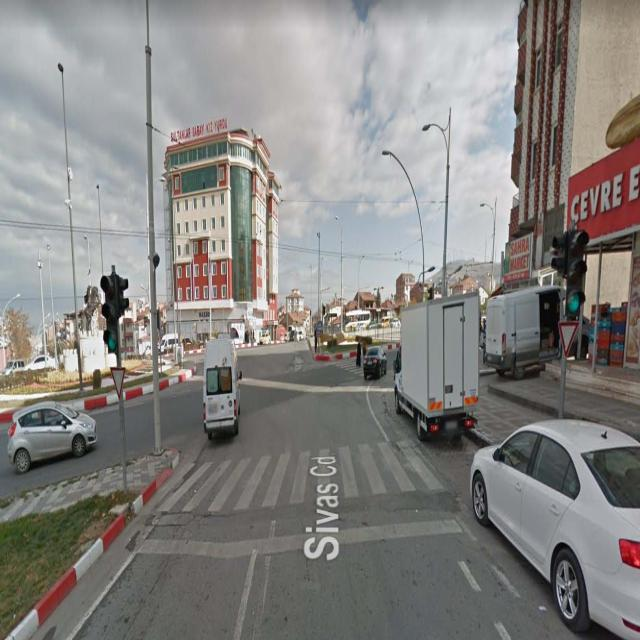yesil: (99, 273, 120, 355), (567, 231, 585, 316)
